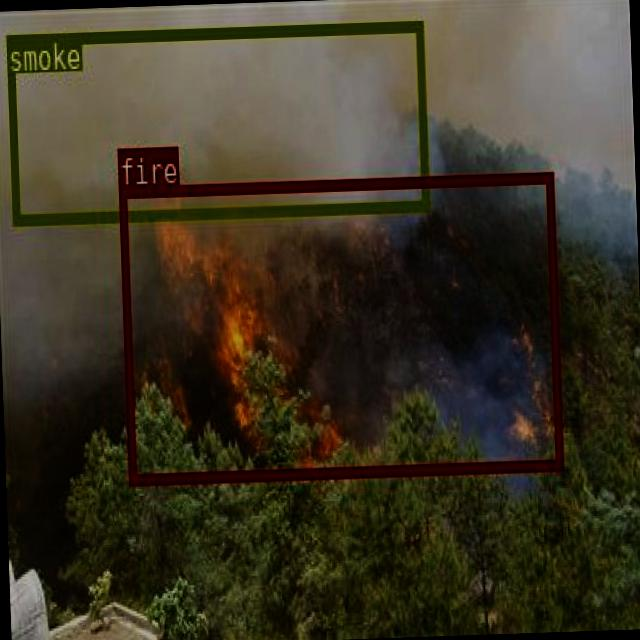fire: (117, 170, 562, 483)
smoke: (5, 20, 428, 224)
